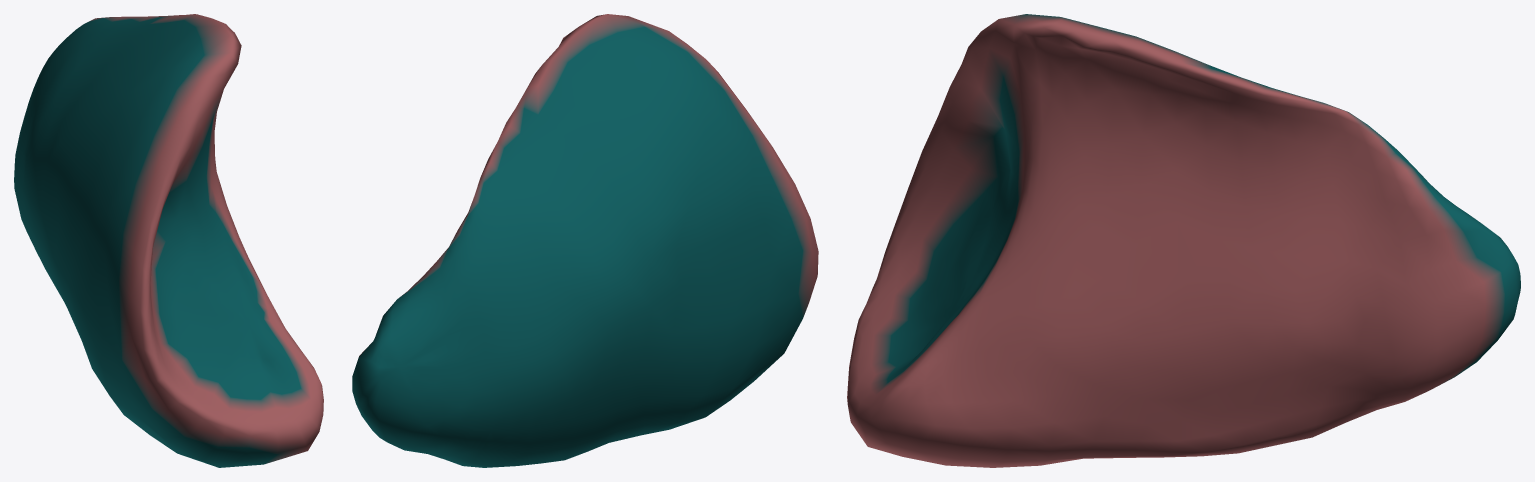
The model's file is Lung_Right_Label_Mesh.FBX.
3 views of the same model, side by side, from view 1: azimuth 30°, elevation 25°; view 2: azimuth 150°, elevation 25°; view 3: azimuth 270°, elevation 25° (orthographic). The views are drawn at different scales.
Visible parts, largest first — view 1: Right_lung_inner0; view 2: Right_lung_inner0; view 3: Right_lung_inner0.
Boxes of the visible parts, box(x1,y1,x2,y2) form: Right_lung_inner0: box(14, 14, 323, 467); Right_lung_inner0: box(352, 14, 818, 467); Right_lung_inner0: box(847, 14, 1520, 467).
Bounding box in the file's own units: 9.85 × 17.76 × 23.9.
